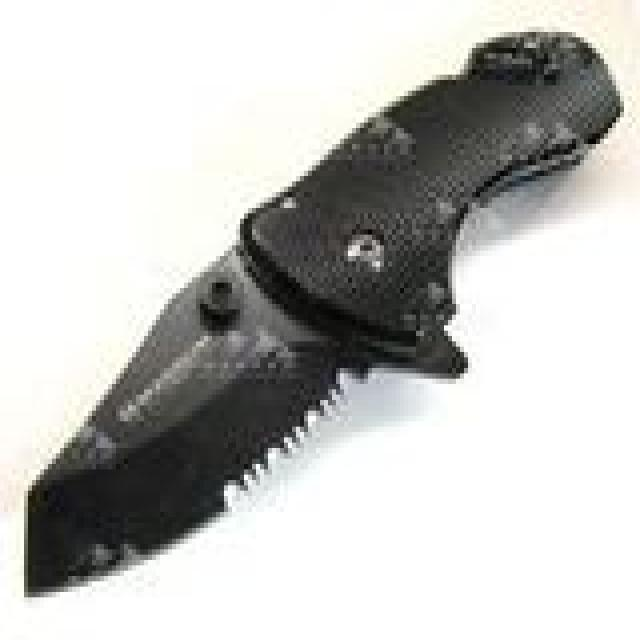Knife: (15, 41, 626, 608)
